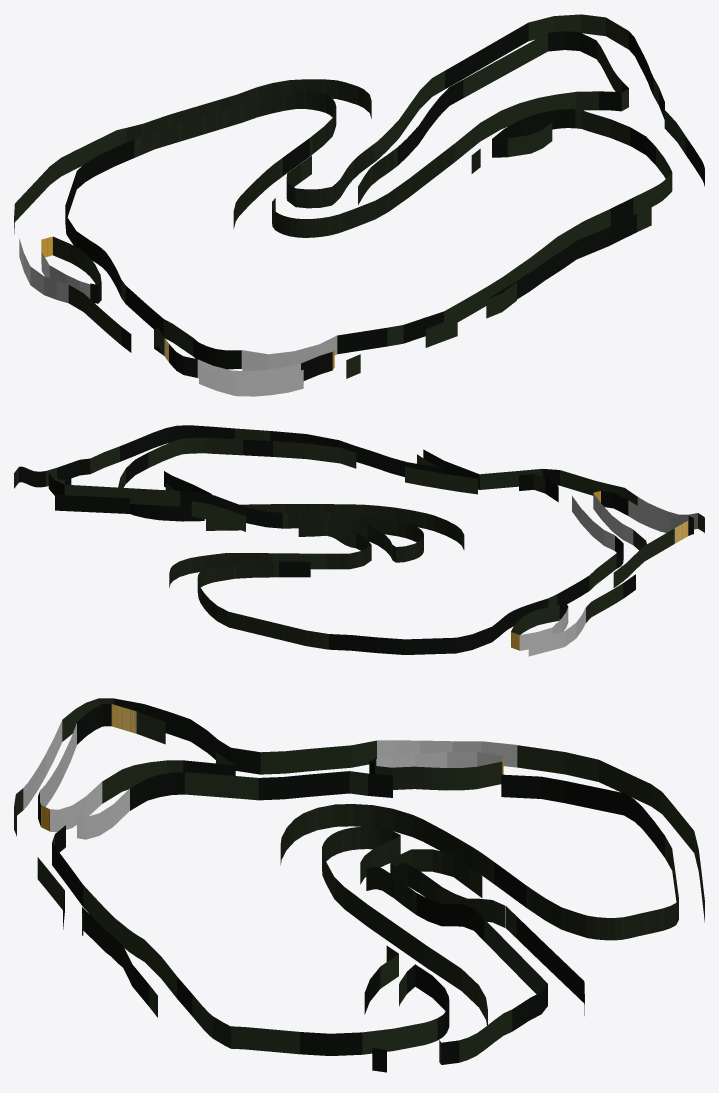
Rendered from track_chinese_coll_wall_01.FBX.
3 views of the same model, one above another, from view 1: azimuth 30°, elevation 25°; view 2: azimuth 150°, elevation 25°; view 3: azimuth 270°, elevation 25° (orthographic). The views are drawn at different scales.
Parts seen in each view (by area): view 1: track_chinese_coll_wall_09, track_chinese_coll_wall_26, track_chinese_coll_wall_27, track_chinese_coll_wall_08, track_chinese_coll_wall_25, track_chinese_coll_wall_10, track_chinese_coll_wall_41, track_chinese_coll_wall_50, track_chinese_coll_wall_49, track_chinese_coll_wall_42, track_chinese_coll_wall_67, track_chinese_coll_wall_51 (+32 smaller); view 2: track_chinese_coll_wall_26, track_chinese_coll_wall_56, track_chinese_coll_wall_48, track_chinese_coll_wall_67, track_chinese_coll_wall_24, track_chinese_coll_wall_49, track_chinese_coll_wall_45, track_chinese_coll_wall_50, track_chinese_coll_wall_15, track_chinese_coll_wall_16, track_chinese_coll_wall_35, track_chinese_coll_wall_09 (+38 smaller); view 3: track_chinese_coll_wall_06, track_chinese_coll_wall_01, track_chinese_coll_wall_07, track_chinese_coll_wall_02, track_chinese_coll_wall_67, track_chinese_coll_wall_45, track_chinese_coll_wall_62, track_chinese_coll_wall_68, track_chinese_coll_wall_61, track_chinese_coll_wall_32, track_chinese_coll_wall_26, track_chinese_coll_wall_44 (+37 smaller).
Boxes of the visible parts, left/top/right/bottom form: track_chinese_coll_wall_09: left=116, top=106, right=204, bottom=157; track_chinese_coll_wall_26: left=475, top=22, right=547, bottom=80; track_chinese_coll_wall_27: left=528, top=14, right=605, bottom=51; track_chinese_coll_wall_08: left=61, top=130, right=134, bottom=181; track_chinese_coll_wall_25: left=431, top=53, right=493, bottom=105; track_chinese_coll_wall_10: left=196, top=87, right=257, bottom=133; track_chinese_coll_wall_41: left=466, top=103, right=534, bottom=151; track_chinese_coll_wall_50: left=544, top=221, right=608, bottom=269; track_chinese_coll_wall_49: left=583, top=203, right=651, bottom=246; track_chinese_coll_wall_42: left=519, top=92, right=576, bottom=133; track_chinese_coll_wall_67: left=241, top=335, right=337, bottom=371; track_chinese_coll_wall_51: left=503, top=247, right=561, bottom=299; track_chinese_coll_wall_26: left=55, top=484, right=138, bottom=513; track_chinese_coll_wall_56: left=519, top=468, right=594, bottom=502; track_chinese_coll_wall_48: left=193, top=425, right=257, bottom=455; track_chinese_coll_wall_67: left=572, top=493, right=633, bottom=550; track_chinese_coll_wall_24: left=191, top=492, right=247, bottom=531; track_chinese_coll_wall_49: left=251, top=429, right=306, bottom=458; track_chinese_coll_wall_45: left=90, top=440, right=162, bottom=483; track_chinese_coll_wall_50: left=306, top=434, right=356, bottom=468; track_chinese_coll_wall_15: left=214, top=553, right=265, bottom=580; track_chinese_coll_wall_16: left=263, top=553, right=310, bottom=577; track_chinese_coll_wall_35: left=359, top=504, right=410, bottom=536; track_chinese_coll_wall_09: left=262, top=620, right=328, bottom=649; track_chinese_coll_wall_06: left=501, top=745, right=598, bottom=802; track_chinese_coll_wall_01: left=231, top=747, right=308, bottom=800; track_chinese_coll_wall_07: left=565, top=760, right=662, bottom=821; track_chinese_coll_wall_02: left=306, top=742, right=367, bottom=796; track_chinese_coll_wall_67: left=50, top=781, right=129, bottom=839; track_chinese_coll_wall_45: left=269, top=1029, right=362, bottom=1055; track_chinese_coll_wall_62: left=99, top=698, right=170, bottom=744; track_chinese_coll_wall_68: left=376, top=740, right=452, bottom=767; track_chinese_coll_wall_61: left=149, top=760, right=211, bottom=797; track_chinese_coll_wall_32: left=317, top=804, right=372, bottom=851; track_chinese_coll_wall_26: left=507, top=940, right=584, bottom=1002; track_chinese_coll_wall_44: left=362, top=1022, right=441, bottom=1072.
Size of the model in its own units: 569 by 79.79 by 446.
